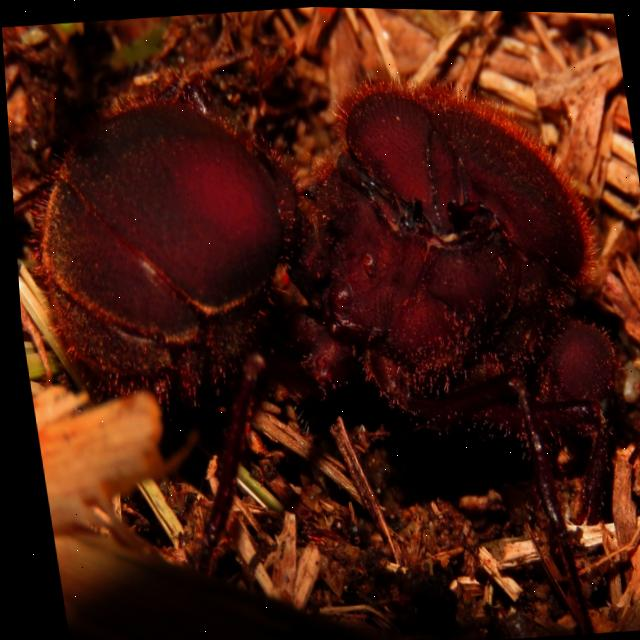Alive-Female-Dealate: (1, 25, 640, 640)
